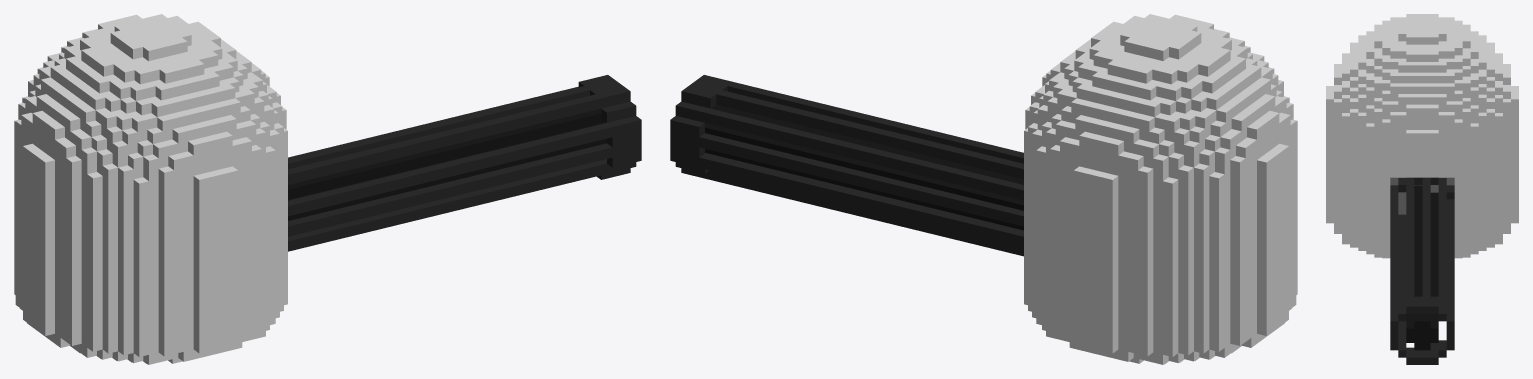
Rendered from gatling.vox.obj.
3 renders of one model, left to right at view 1: azimuth 30°, elevation 25°; view 2: azimuth 150°, elevation 25°; view 3: azimuth 270°, elevation 25°, orthographic. The views are drawn at different scales.
Size of the model in its own units: 6 by 2.8 by 2.4.
1 material, 1 textured.
